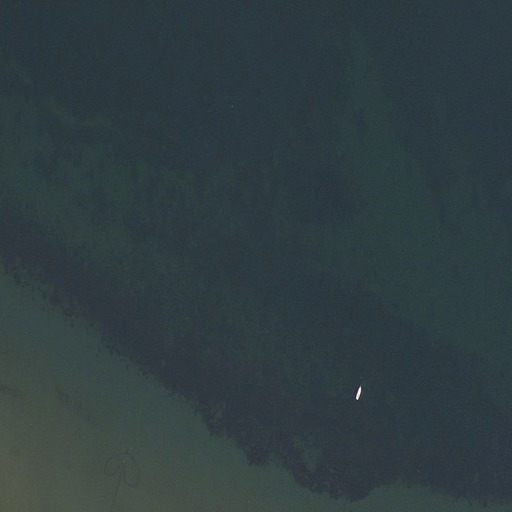ship: (354, 384, 362, 401)
